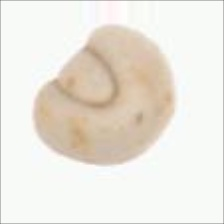L5: (48, 43, 123, 113), (129, 100, 176, 163)
L6: (28, 20, 180, 169)
